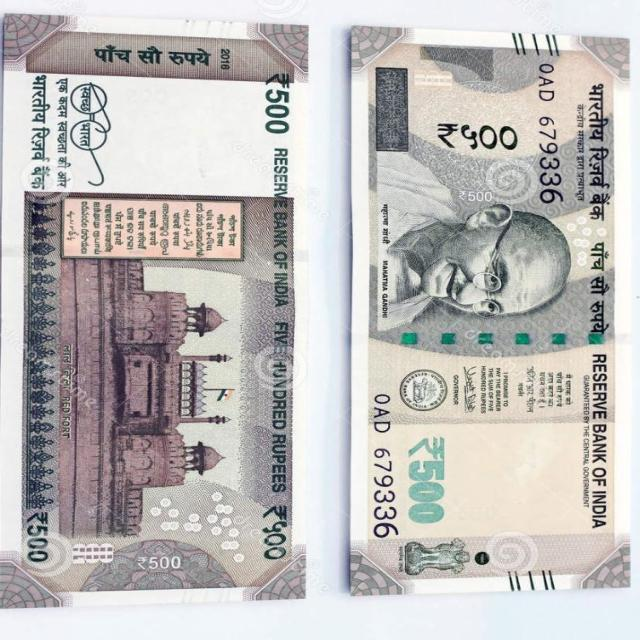500IndianRupees: (0, 14, 321, 604)
